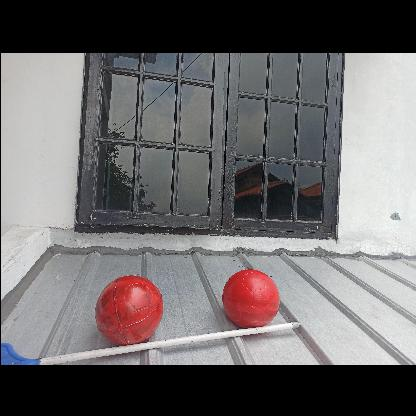red_ball: (94, 272, 164, 342), (223, 268, 281, 326)
